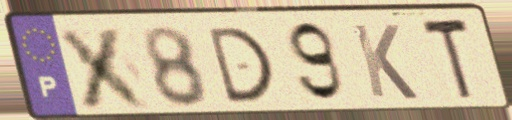8: (142, 24, 210, 110)
9: (284, 20, 348, 107)
D: (203, 24, 278, 107)
K: (349, 21, 422, 103)
T: (417, 14, 476, 105)
X: (52, 24, 157, 110)
